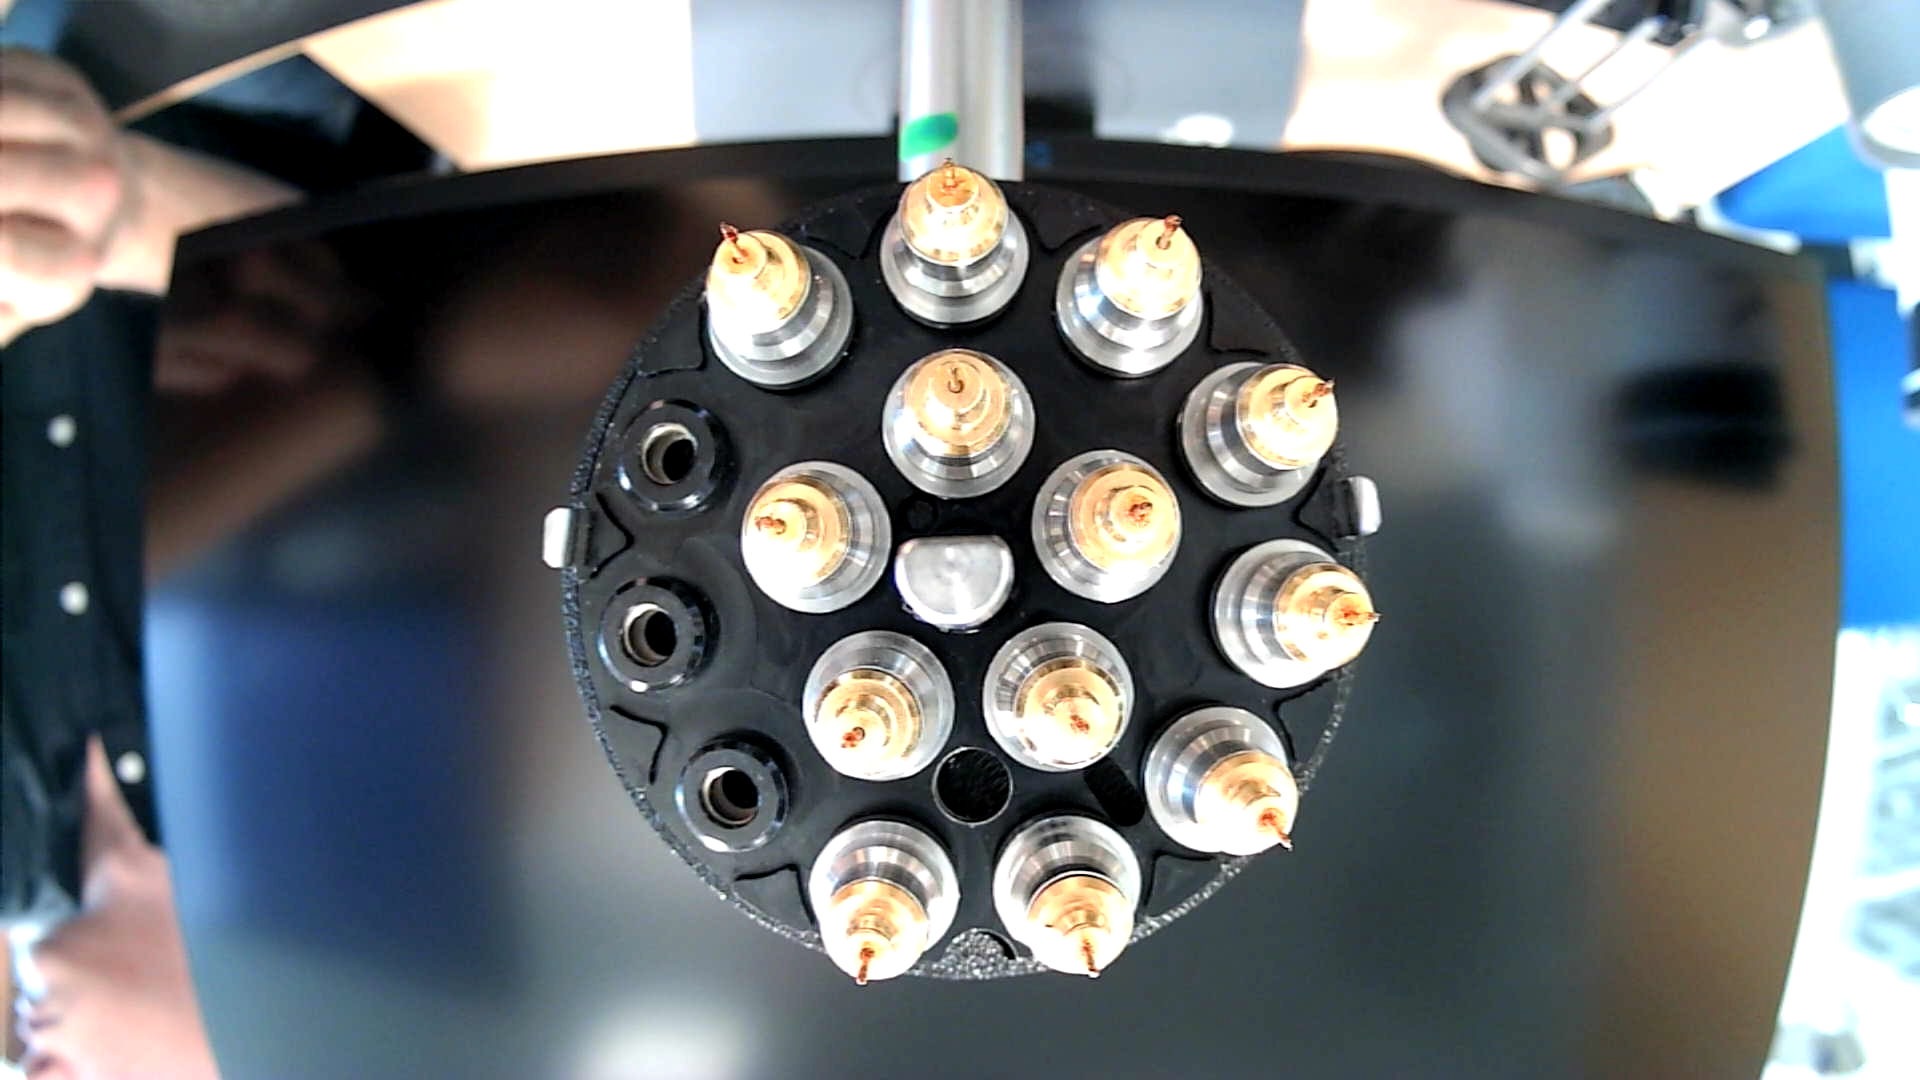empty: (671, 727, 795, 862), (592, 571, 724, 698), (615, 394, 737, 522)
hole: (931, 742, 1015, 832)
pin: (804, 812, 965, 990), (700, 218, 857, 396), (1207, 537, 1385, 692), (990, 808, 1145, 982), (878, 158, 1031, 334), (1054, 212, 1205, 384), (1141, 702, 1302, 858), (800, 626, 959, 785), (1179, 359, 1342, 512), (738, 458, 894, 617), (880, 347, 1038, 501), (1030, 448, 1184, 607), (980, 618, 1135, 774)
rod: (891, 530, 1018, 637)
